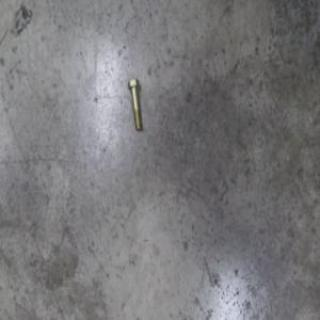Bolttrack_idkeyframe: (128, 76, 142, 129)
